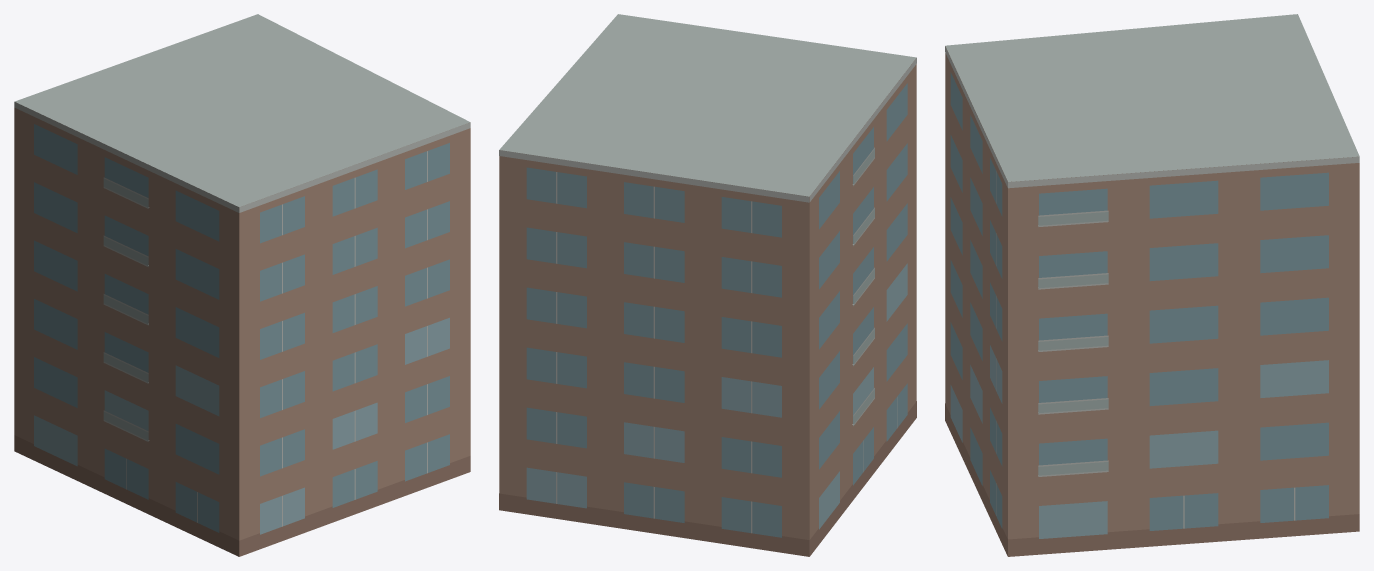
Rendered from survey-upis-32881932.glb.
The picture shows the model from 3 angles, left to right: view 1: azimuth 30°, elevation 25°; view 2: azimuth 150°, elevation 25°; view 3: azimuth 270°, elevation 25°; orthographic projection. The views are drawn at different scales.
Parts seen in each view (by area): view 1: survey-upis-32881932.tmp; view 2: survey-upis-32881932.tmp; view 3: survey-upis-32881932.tmp.
Boxes of the visible parts, box(x1,y1,x2,y2) form: survey-upis-32881932.tmp: box(14, 14, 470, 556); survey-upis-32881932.tmp: box(499, 14, 916, 556); survey-upis-32881932.tmp: box(945, 14, 1359, 556).
Bounding box in the file's own units: 14.04 × 14.6 × 14.65.
